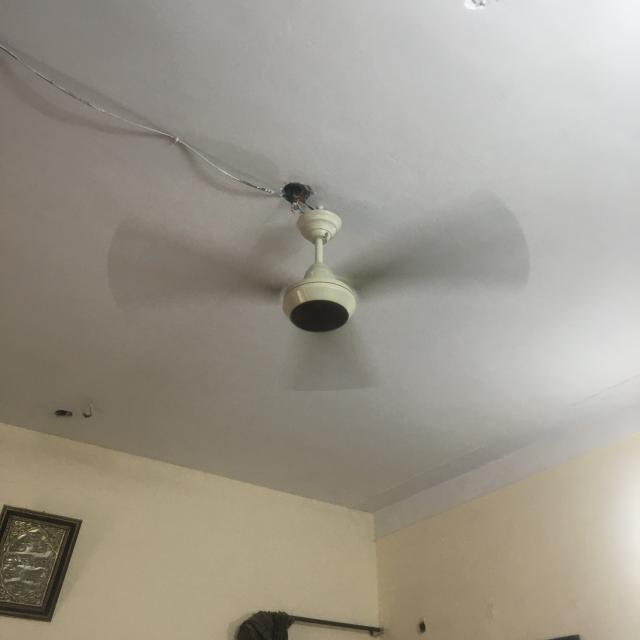on: (105, 188, 535, 404)
